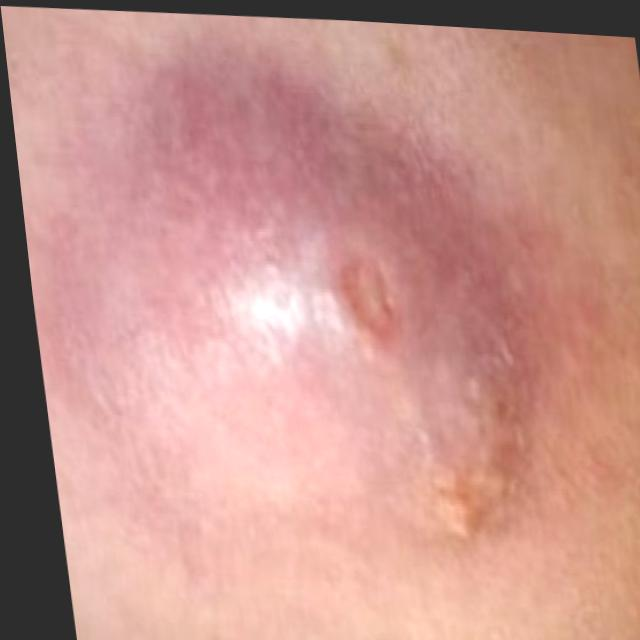nodule: (59, 60, 544, 577)
